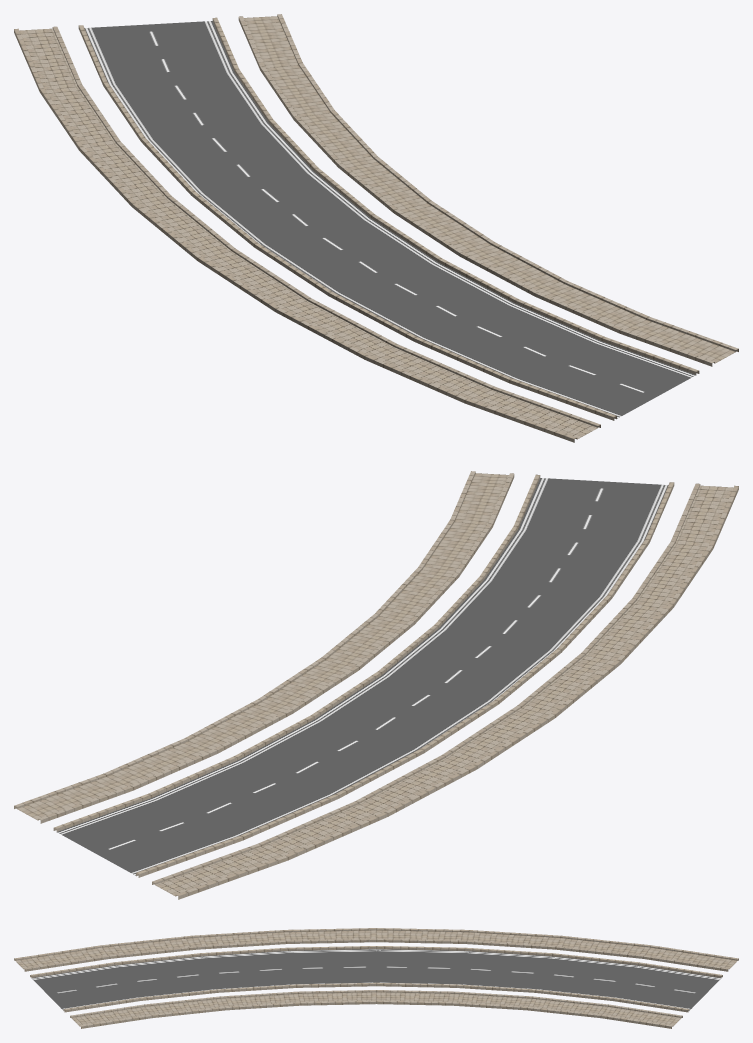
File: Street1LaneTurn45Deg.FBX
3 views of the same model, one above another, from view 1: azimuth 30°, elevation 25°; view 2: azimuth 150°, elevation 25°; view 3: azimuth 270°, elevation 25° (orthographic). The views are drawn at different scales.
Parts seen in each view (by area): view 1: Street1LaneTurn45Deg; view 2: Street1LaneTurn45Deg; view 3: Street1LaneTurn45Deg.
Boxes of the visible parts, x1,y1,x2,y2 form: Street1LaneTurn45Deg: (14, 14, 738, 442); Street1LaneTurn45Deg: (14, 471, 738, 899); Street1LaneTurn45Deg: (14, 928, 738, 1028).
Size of the model in its own units: 27.67 by 0.3 by 85.88.
Materials: 2 (2 with a texture image).
